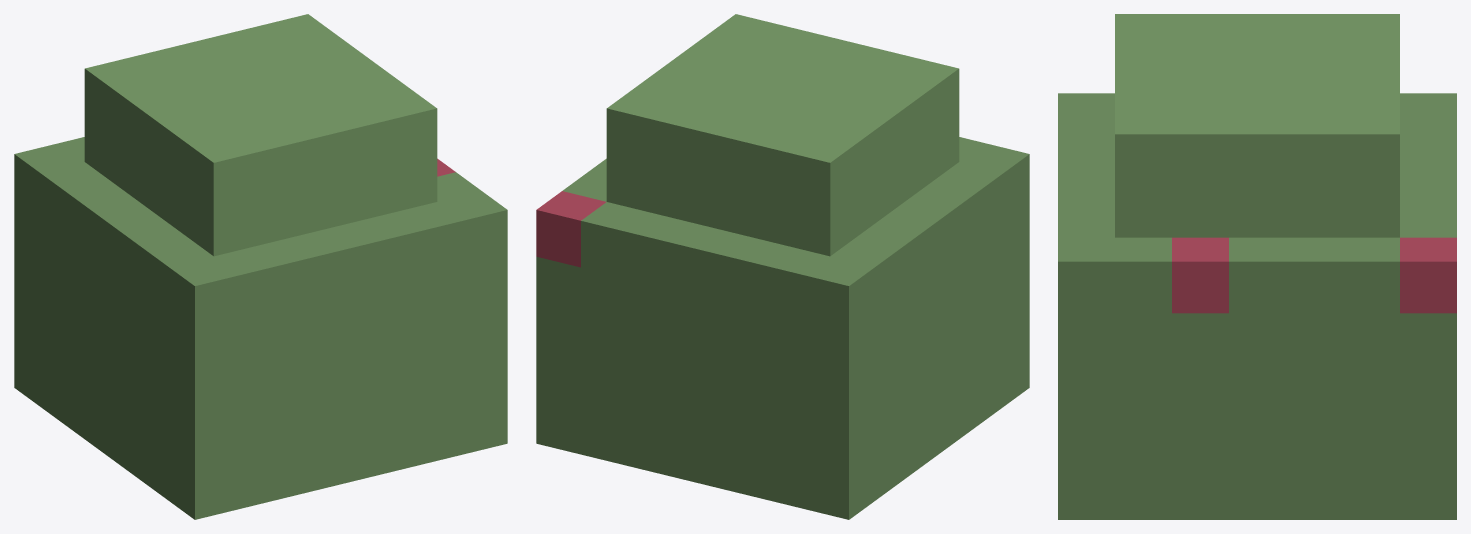
Rendered from arandano_rojo_04.glb.
3 views of the same model, side by side, from view 1: azimuth 30°, elevation 25°; view 2: azimuth 150°, elevation 25°; view 3: azimuth 270°, elevation 25° (orthographic). The views are drawn at different scales.
Parts seen in each view (by area): view 1: arandano_rojo_04; view 2: arandano_rojo_04; view 3: arandano_rojo_04.
Part boxes in pixels (x1,y1,x2,y2): arandano_rojo_04: [14, 14, 507, 519]; arandano_rojo_04: [536, 14, 1029, 519]; arandano_rojo_04: [1058, 14, 1456, 519].
Size of the model in its own units: 0.7 by 0.7 by 0.7.
